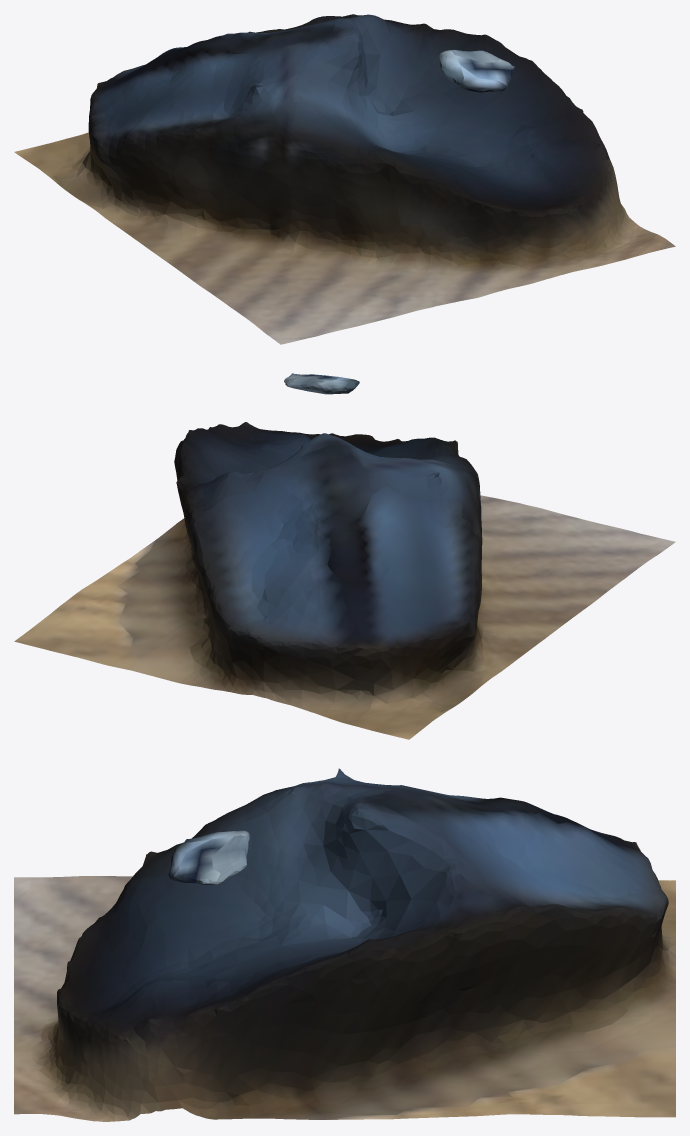
File: Mouse.glb
3 renders of one model, top to bottom at view 1: azimuth 30°, elevation 25°; view 2: azimuth 150°, elevation 25°; view 3: azimuth 270°, elevation 25°, orthographic. The views are drawn at different scales.
Visible parts, largest first — view 1: mesh; view 2: mesh; view 3: mesh.
Part boxes in pixels (x1,y1,x2,y2): mesh: (14, 14, 675, 344); mesh: (14, 373, 675, 739); mesh: (14, 768, 675, 1121).
Size of the model in its own units: 0.0968 by 0.039 by 0.1132.
1 material, 1 textured.
